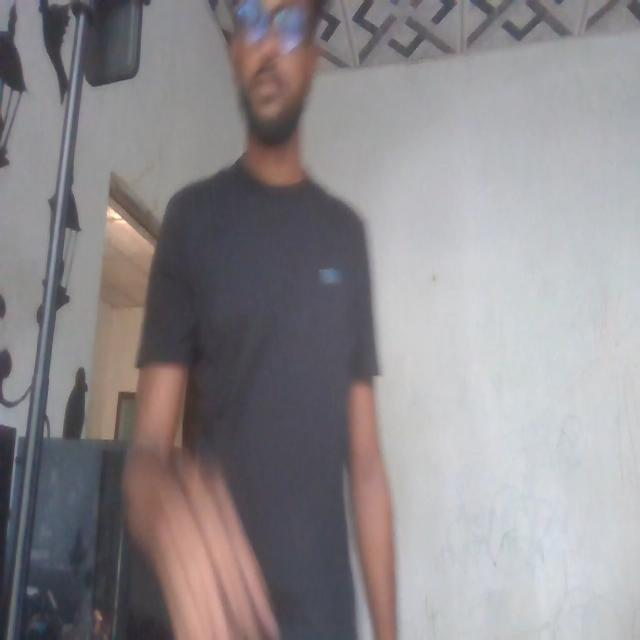Person: (152, 0, 378, 640)
